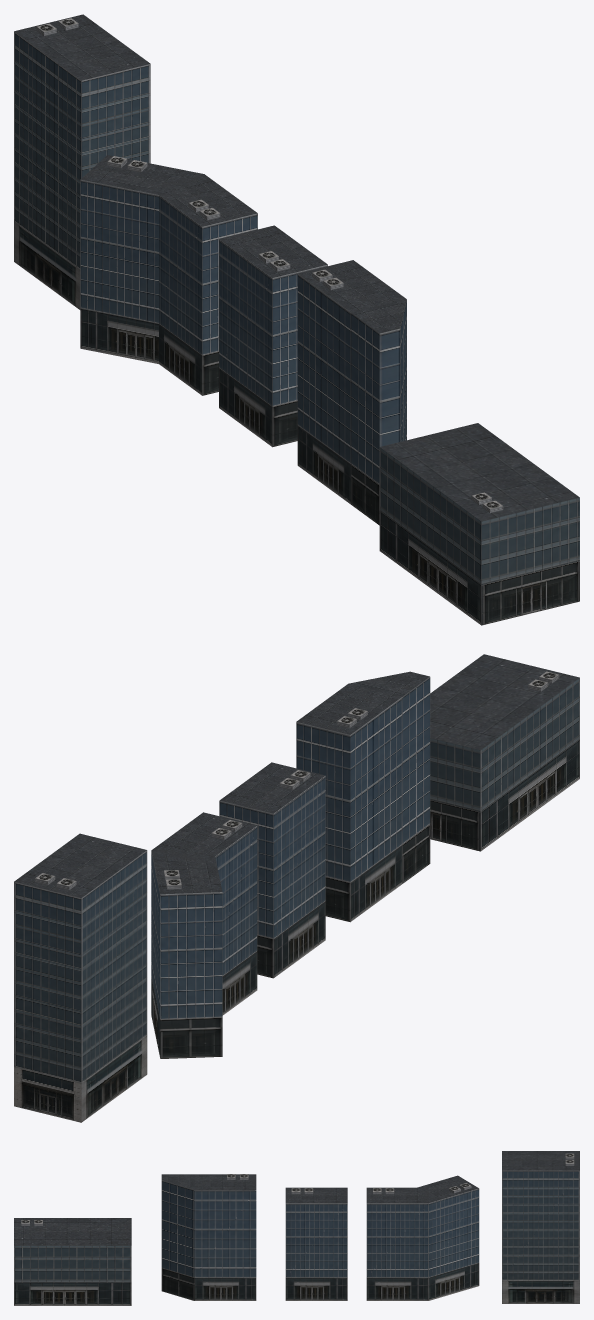
File: GenericOfficeBuildings.glb
3 renders of one model, top to bottom at view 1: azimuth 30°, elevation 25°; view 2: azimuth 150°, elevation 25°; view 3: azimuth 270°, elevation 25°, orthographic. The views are drawn at different scales.
Parts seen in each view (by area): view 1: GenericOfficeBuilding5, GenericOfficeBuilding2, GenericOfficeBuilding3, GenericOfficeBuilding4, GenericOfficeBuilding1; view 2: GenericOfficeBuilding3, GenericOfficeBuilding4, GenericOfficeBuilding5, GenericOfficeBuilding2, GenericOfficeBuilding1; view 3: GenericOfficeBuilding2, GenericOfficeBuilding4, GenericOfficeBuilding3, GenericOfficeBuilding5, GenericOfficeBuilding1.
Boxes of the visible parts, x1,y1,x2,y2 form: GenericOfficeBuilding5: (379,423,579,625); GenericOfficeBuilding2: (80,155,257,395); GenericOfficeBuilding3: (14,14,150,309); GenericOfficeBuilding4: (297,260,406,525); GenericOfficeBuilding1: (219,225,327,447); GenericOfficeBuilding3: (14,833,147,1122); GenericOfficeBuilding4: (296,671,430,922); GenericOfficeBuilding5: (430,654,579,851); GenericOfficeBuilding2: (151,812,257,1058); GenericOfficeBuilding1: (219,762,325,978); GenericOfficeBuilding2: (366,1175,479,1300); GenericOfficeBuilding4: (161,1174,256,1300); GenericOfficeBuilding3: (502,1151,579,1303); GenericOfficeBuilding5: (14,1218,131,1305); GenericOfficeBuilding1: (285,1187,347,1300).
Bounding box in the file's own units: 4.17 × 8.08 × 30.54.
1 material, 1 textured.
